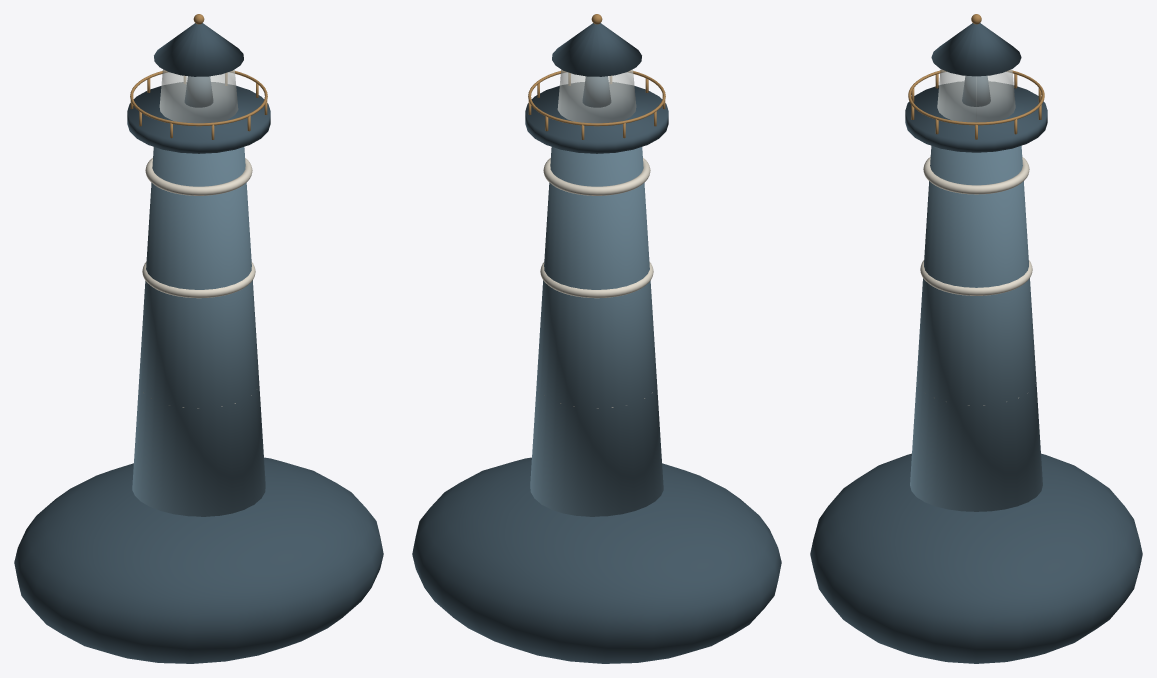
The model's file is lighthouse_tower.glb.
The picture shows the model from 3 angles, left to right: view 1: azimuth 30°, elevation 25°; view 2: azimuth 150°, elevation 25°; view 3: azimuth 270°, elevation 25°; orthographic projection.
Parts seen in each view (by area): view 1: Rock, Tower, Gallery, LanternRoom, Roof, Band.002, Band.001, Rail, LanternCore; view 2: Rock, Tower, Gallery, LanternRoom, Roof, Band.002, Band.001, Rail, LanternCore; view 3: Rock, Tower, Gallery, LanternRoom, Roof, Band.002, Band.001, Rail, LanternCore.
Boxes of the visible parts, x1,y1,x2,y2 form: Rock: (14,457,383,663); Tower: (132,147,265,516); Gallery: (127,82,270,153); LanternRoom: (159,69,238,123); Roof: (154,23,243,76); Band.002: (145,158,252,195); Band.001: (142,261,255,298); Rail: (130,70,267,126); LanternCore: (184,76,213,107); Rock: (412,457,781,663); Tower: (530,147,663,516); Gallery: (525,82,668,153); LanternRoom: (557,69,636,123); Roof: (552,23,641,76); Band.002: (543,158,650,195); Band.001: (540,261,653,298); Rail: (528,70,665,126); LanternCore: (582,76,611,107); Rock: (810,453,1142,663); Tower: (910,145,1042,511); Gallery: (905,81,1047,152); LanternRoom: (937,69,1015,122); Roof: (931,23,1021,76); Band.002: (923,157,1029,194); Band.001: (920,260,1032,295); Rail: (908,70,1044,125); LanternCore: (962,76,990,106).
Size of the model in its own units: 13 by 23.34 by 11.44.
